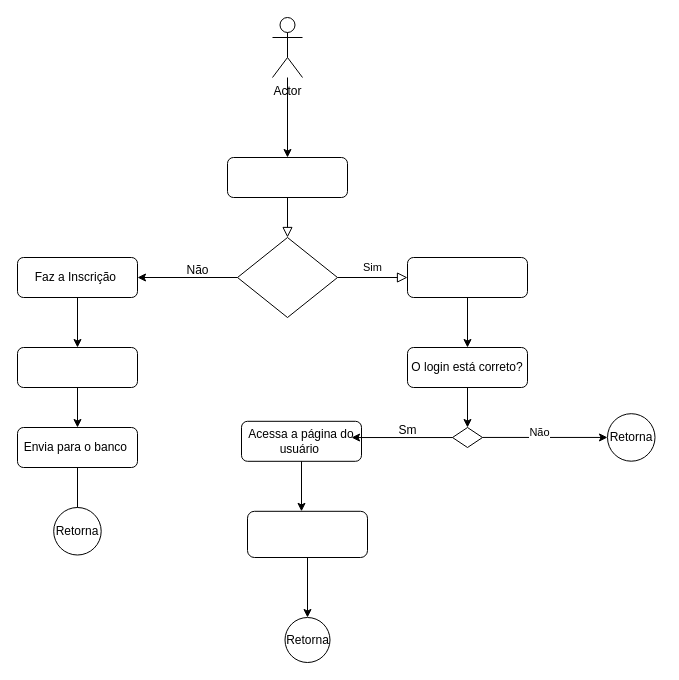
The diagram is 679 pixels wide and 680 high, and some of its shapes have lost their labels. The shapes that lost their labels are listed below. From the top down, each one's centre as x and y in pixels, then its label:
the point at 287,177: Possui uma conta?
the point at 467,277: Digite o Login
the point at 77,367: ADM cria o cadastro
the point at 307,534: Tem acesso aos cursos que está inscrito
